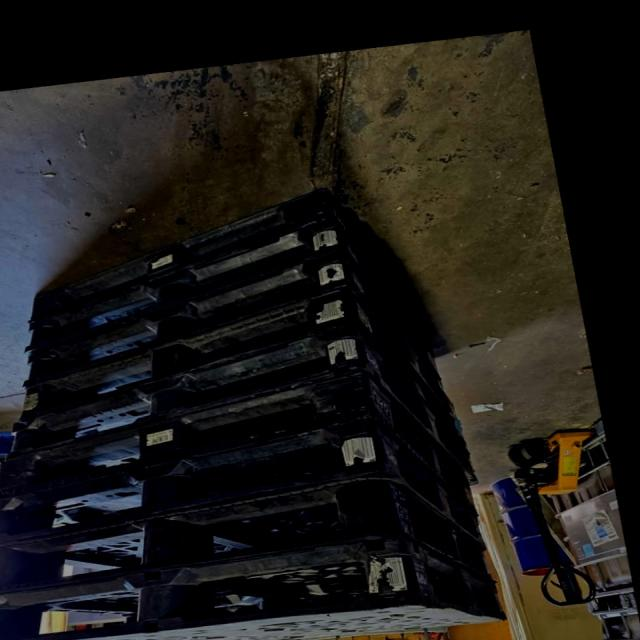igps: (0, 363, 407, 529), (0, 405, 412, 563), (0, 465, 421, 612), (11, 281, 382, 440), (0, 530, 510, 640), (0, 321, 388, 462), (20, 247, 372, 396), (14, 212, 362, 355), (21, 184, 349, 328)
